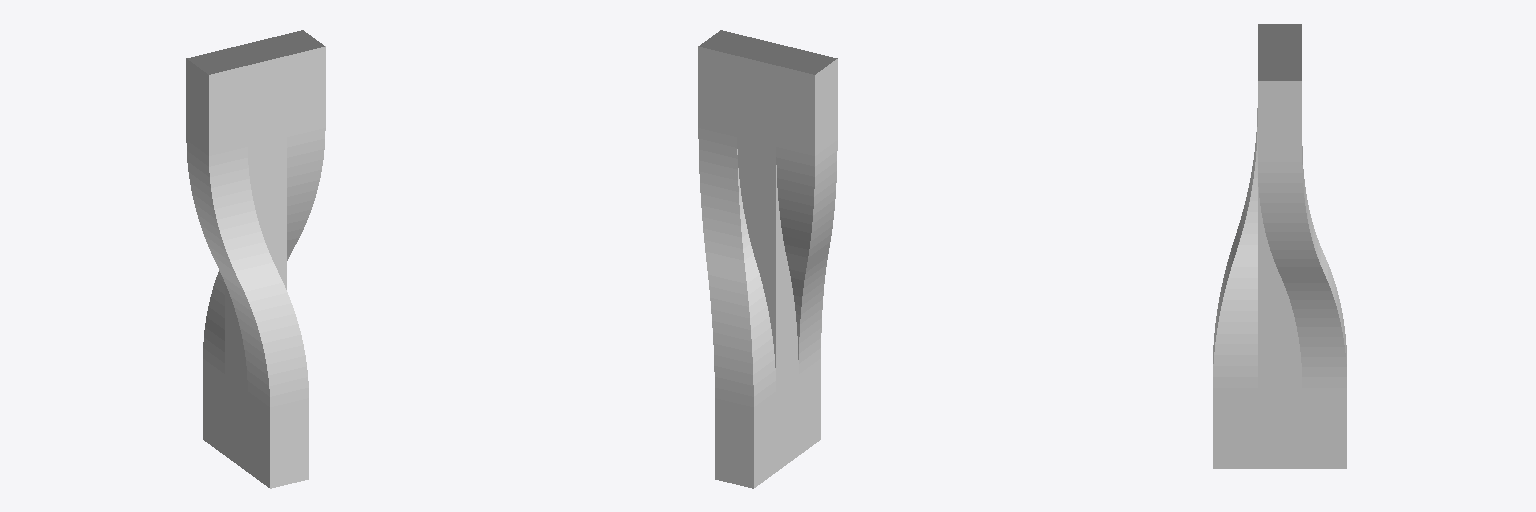
The model's file is ESCHERTOWER.obj.
The picture shows the model from 3 angles: view 1: azimuth 30°, elevation 25°; view 2: azimuth 150°, elevation 25°; view 3: azimuth 270°, elevation 25°; orthographic projection.
Size of the model in its own units: 60 by 200 by 60.